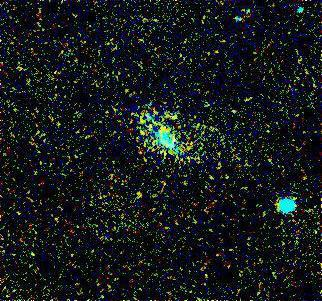star: (147, 111, 177, 141)
